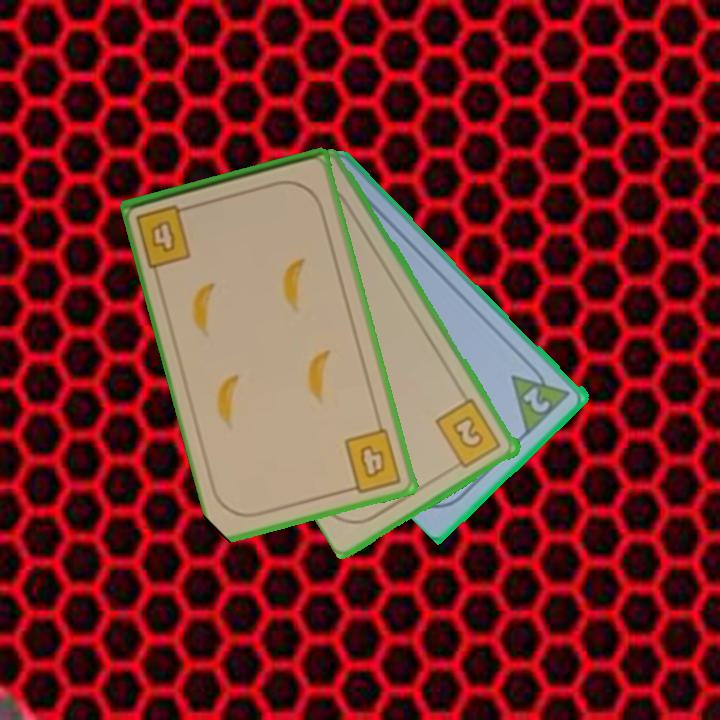2b: (432, 395, 505, 473)
2p: (507, 357, 575, 436)
4b: (341, 425, 405, 496), (132, 201, 197, 270)
